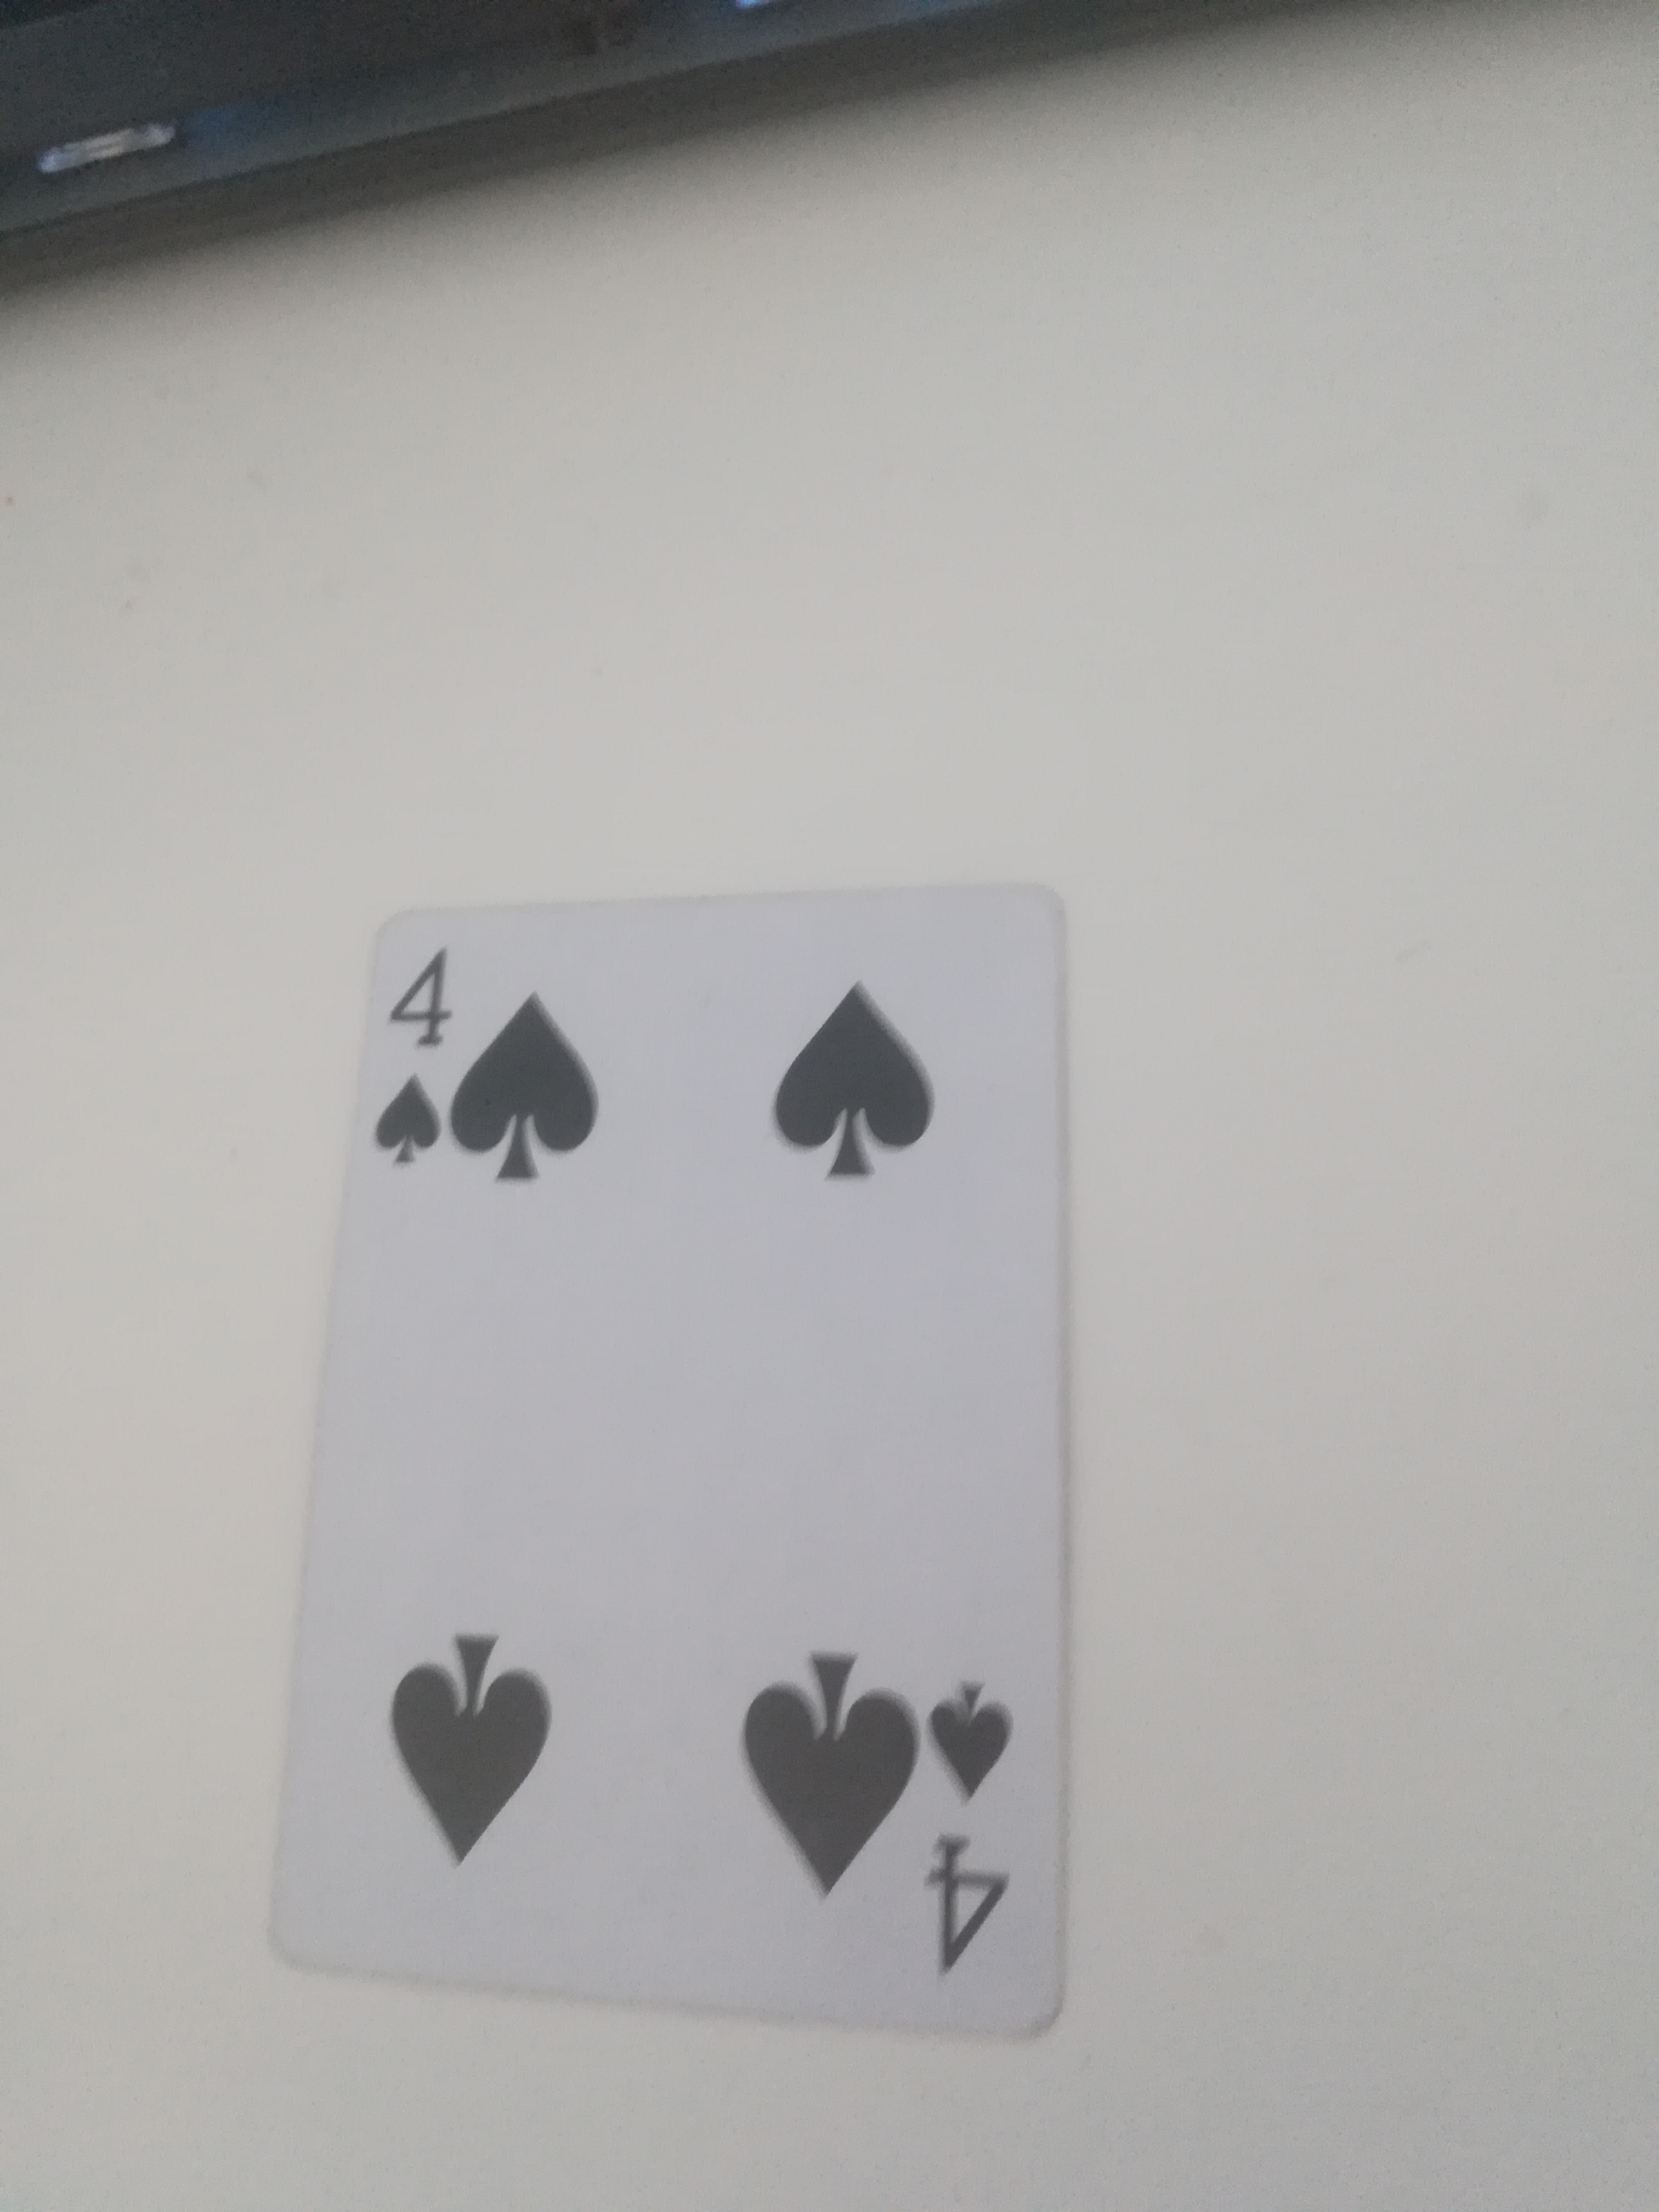4S: (267, 850, 1091, 2034)
